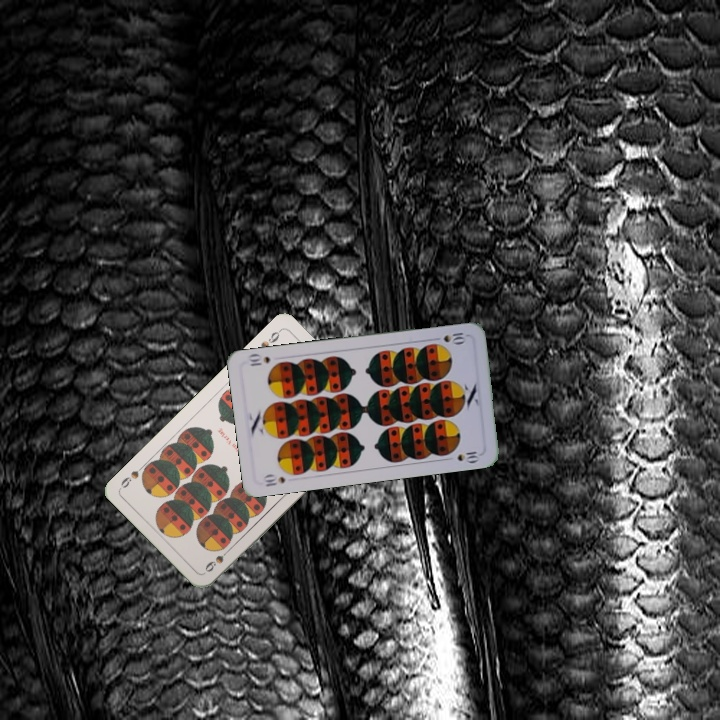S10: (440, 328, 469, 346), (260, 471, 288, 489)
S9: (201, 544, 234, 575), (256, 325, 283, 352)
